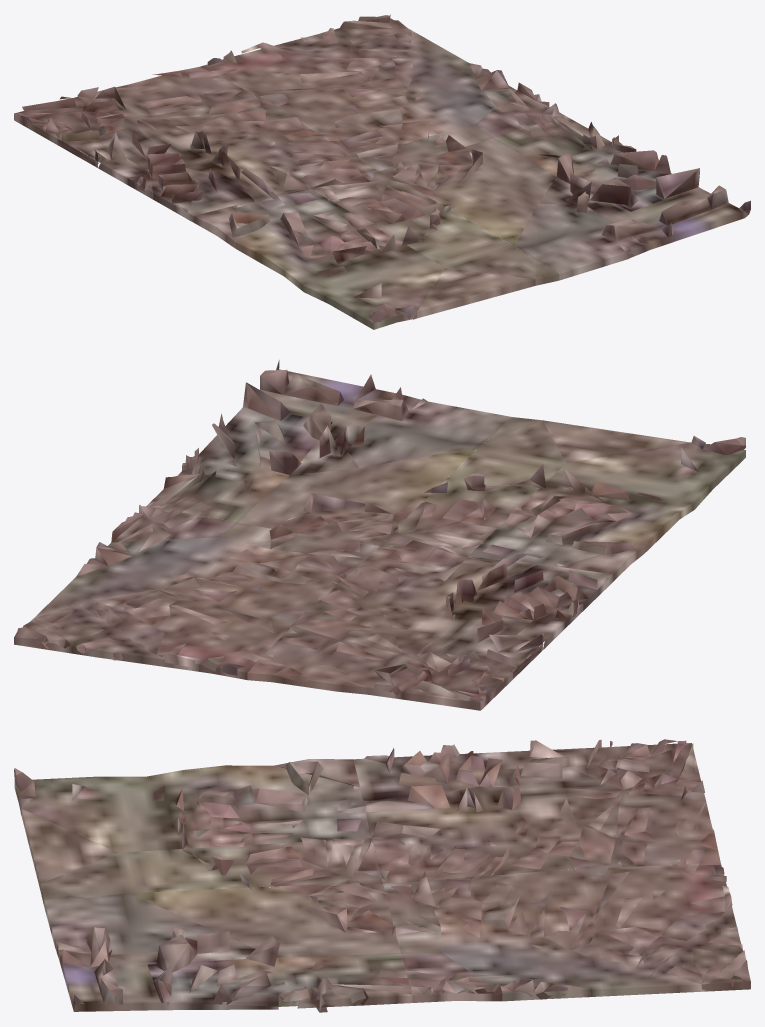
3 views of the same model, one above another, from view 1: azimuth 30°, elevation 25°; view 2: azimuth 150°, elevation 25°; view 3: azimuth 270°, elevation 25° (orthographic). The views are drawn at different scales.
Parts seen in each view (by area): view 1: Mesh_0; view 2: Mesh_0; view 3: Mesh_0.
Part boxes in pixels (x1,y1,x2,y2): Mesh_0: (14,14,750,329); Mesh_0: (14,360,745,710); Mesh_0: (14,739,750,1012).
Bounding box in the file's own units: 1080 × 89.07 × 1319.
Materials: 1 (1 with a texture image).
